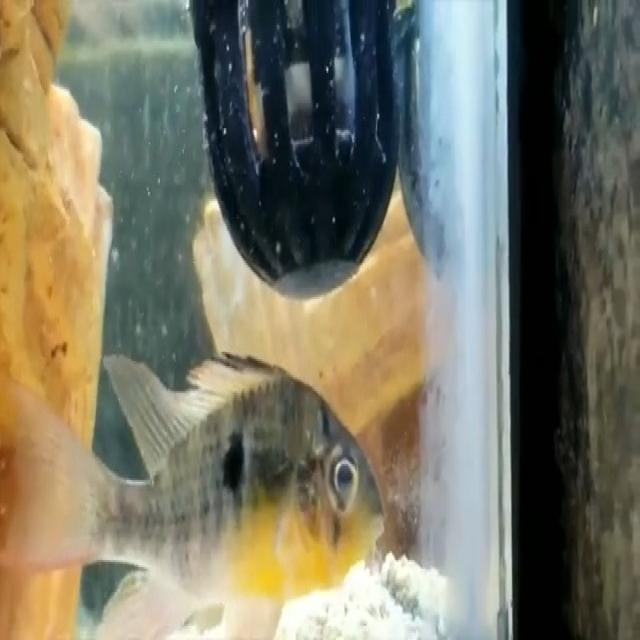fish: (14, 339, 392, 640)
